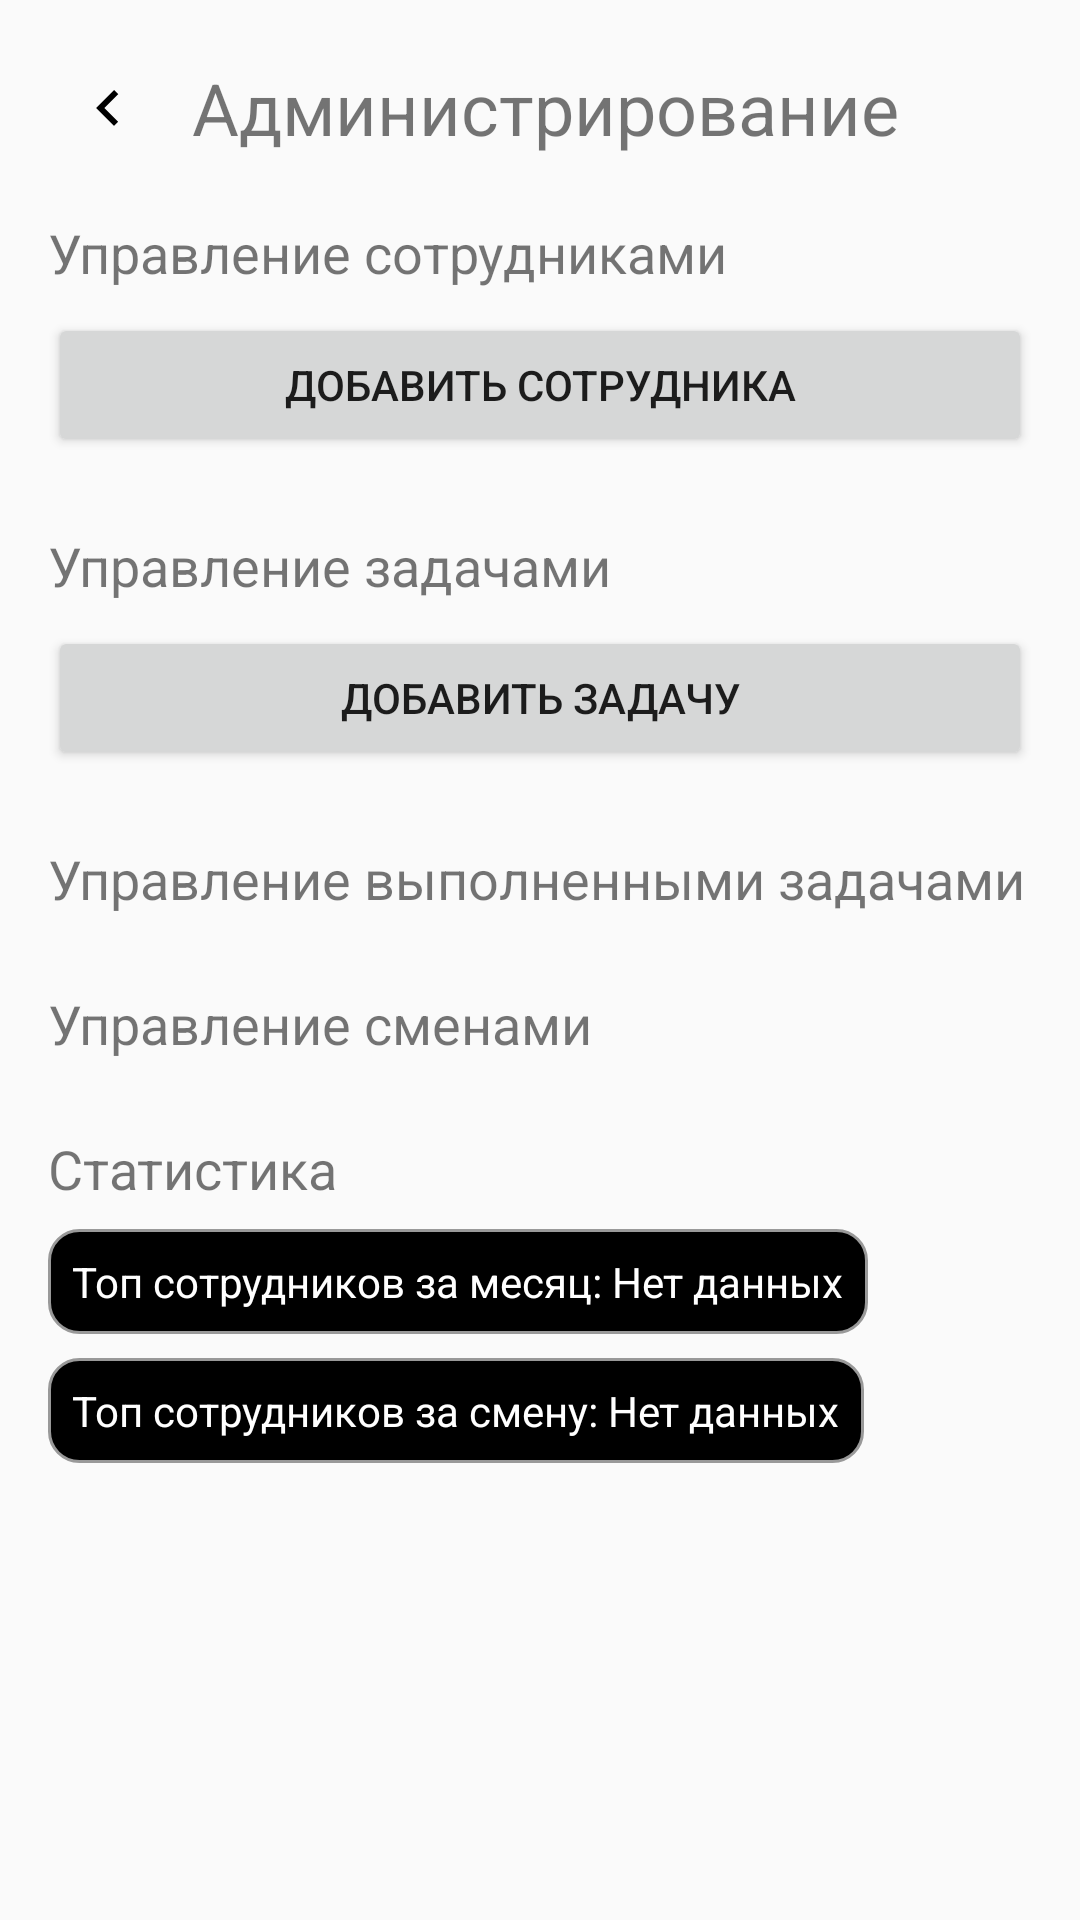

Where icons sit on this 1080px x 1920px app screen, as bbox=[x1, y1, x2, y2]:
Назад: bbox=[96, 90, 118, 126]
